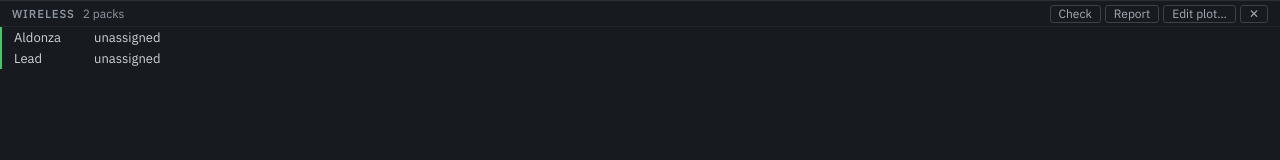
Test: RfPanel › the check › says every pack is ready, and nothing under it, when they are
Click the button with class "rf-btn" showing "Check". click: (1075, 14)
box: [1050,4,1101,22]
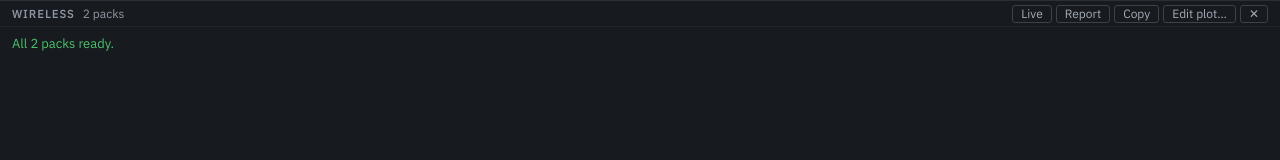
Expected: the text with class "rf-check-verdict" reads "All 2 packs ready.", [12,35,114,52]
